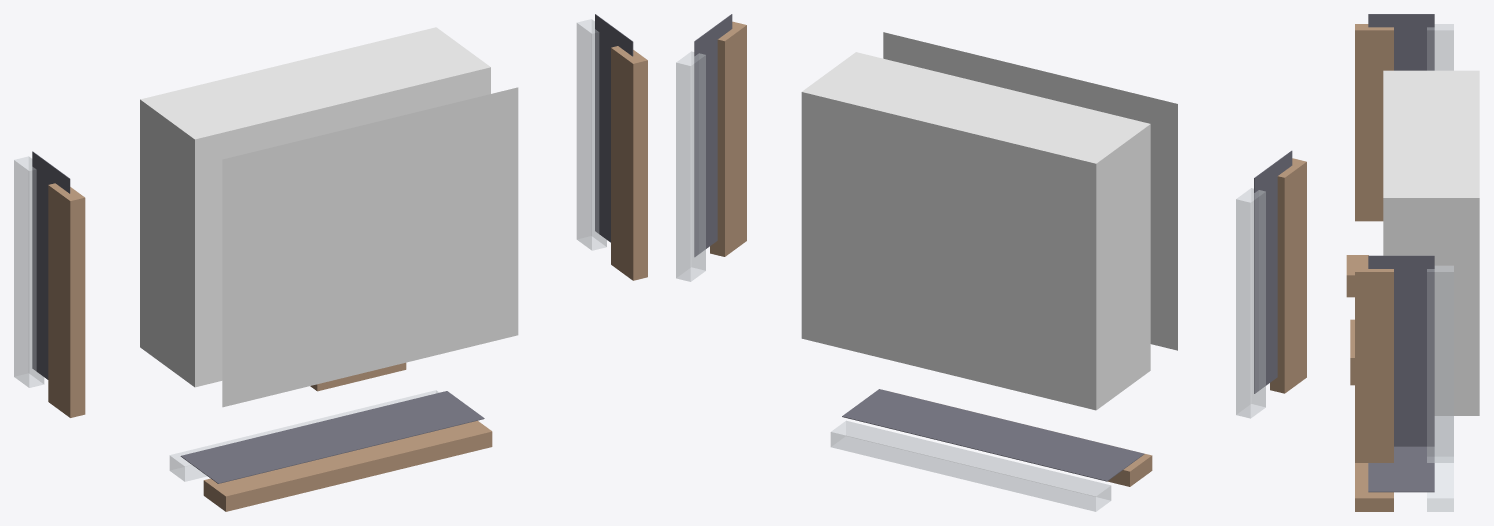
The model's file is pharmacy-room.glb.
The picture shows the model from 3 angles, left to right: view 1: azimuth 30°, elevation 25°; view 2: azimuth 150°, elevation 25°; view 3: azimuth 270°, elevation 25°; orthographic projection. The views are drawn at different scales.
Parts seen in each view (by area): view 1: Floor, Room_Shell, Shelf_Back_Frame, Shelf_Back_Cabinet, Shelf_Left_Cabinet, Shelf_Right_Cabinet, Shelf_Right_Glass, Shelf_Left_Glass, Shelf_Left_Frame, Shelf_Right_Frame, Shelf_Back_Glass, Counter; view 2: Room_Shell, Floor, Shelf_Back_Frame, Shelf_Back_Glass, Shelf_Left_Cabinet, Shelf_Right_Cabinet, Shelf_Right_Glass, Shelf_Left_Glass, Shelf_Left_Frame, Shelf_Right_Frame, Shelf_Back_Cabinet; view 3: Room_Shell, Shelf_Right_Frame, Shelf_Right_Cabinet, Shelf_Left_Cabinet, Shelf_Right_Glass, Shelf_Left_Frame, Shelf_Back_Frame, Shelf_Back_Glass, Shelf_Left_Glass, Shelf_Back_Cabinet, Desk, Counter.
Part boxes in pixels (x1=…): Floor: x1=222, y1=87, x2=518, y2=407; Room_Shell: x1=140, y1=27, x2=490, y2=387; Shelf_Back_Frame: x1=180, y1=391, x2=484, y2=483; Shelf_Back_Cabinet: x1=203, y1=420, x2=492, y2=511; Shelf_Left_Cabinet: x1=48, y1=183, x2=85, y2=417; Shelf_Right_Cabinet: x1=611, y1=46, x2=647, y2=280; Shelf_Right_Glass: x1=576, y1=19, x2=606, y2=250; Shelf_Left_Glass: x1=14, y1=156, x2=44, y2=387; Shelf_Left_Frame: x1=32, y1=151, x2=70, y2=379; Shelf_Right_Frame: x1=595, y1=14, x2=633, y2=242; Shelf_Back_Glass: x1=169, y1=390, x2=438, y2=481; Counter: x1=310, y1=362, x2=406, y2=391; Room_Shell: x1=801, y1=52, x2=1150, y2=410; Floor: x1=883, y1=32, x2=1177, y2=350; Shelf_Back_Frame: x1=842, y1=389, x2=1144, y2=481; Shelf_Back_Glass: x1=830, y1=420, x2=1111, y2=511; Shelf_Left_Cabinet: x1=1270, y1=158, x2=1306, y2=393; Shelf_Right_Cabinet: x1=710, y1=21, x2=746, y2=256; Shelf_Right_Glass: x1=676, y1=51, x2=705, y2=281; Shelf_Left_Glass: x1=1236, y1=188, x2=1265, y2=418; Shelf_Left_Frame: x1=1254, y1=150, x2=1292, y2=393; Shelf_Right_Frame: x1=694, y1=14, x2=732, y2=256; Shelf_Back_Cabinet: x1=1107, y1=454, x2=1152, y2=486; Room_Shell: x1=1383, y1=70, x2=1479, y2=415; Shelf_Right_Frame: x1=1368, y1=255, x2=1434, y2=446; Shelf_Right_Cabinet: x1=1355, y1=265, x2=1393, y2=462; Shelf_Left_Cabinet: x1=1355, y1=24, x2=1393, y2=221; Shelf_Right_Glass: x1=1427, y1=265, x2=1453, y2=462; Shelf_Left_Frame: x1=1368, y1=14, x2=1434, y2=70; Shelf_Back_Frame: x1=1368, y1=446, x2=1434, y2=492; Shelf_Back_Glass: x1=1427, y1=416, x2=1453, y2=511; Shelf_Left_Glass: x1=1427, y1=24, x2=1453, y2=70; Shelf_Back_Cabinet: x1=1355, y1=463, x2=1393, y2=511; Desk: x1=1346, y1=255, x2=1368, y2=297; Counter: x1=1350, y1=319, x2=1354, y2=385.
Size of the model in its own units: 9.75 by 5.88 by 2.4.
